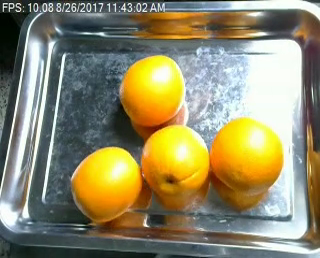Orange: (208, 117, 283, 194), (69, 145, 144, 220), (140, 124, 210, 200), (118, 54, 186, 124)
